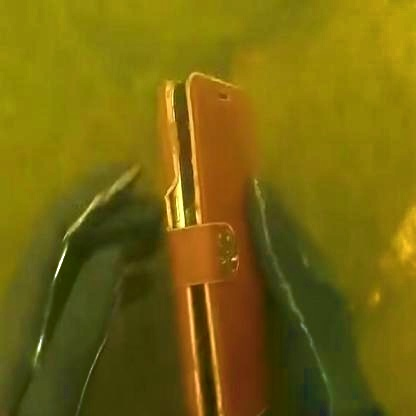electronics: (131, 63, 318, 416)
